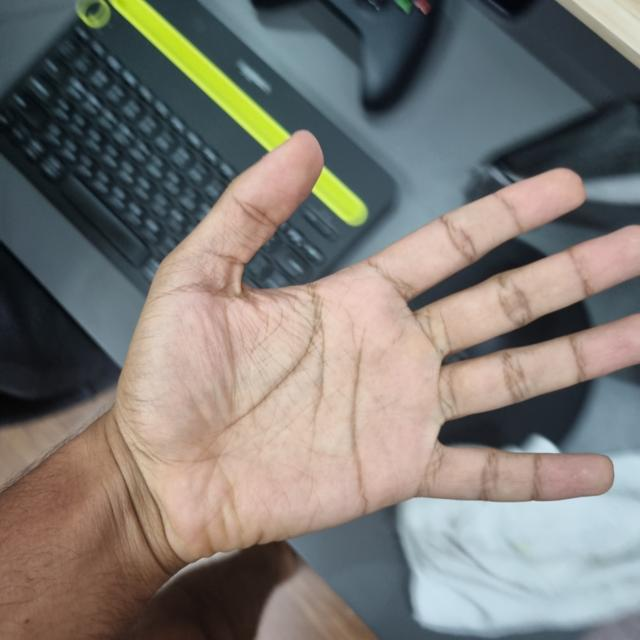Paper: (110, 137, 635, 552)
